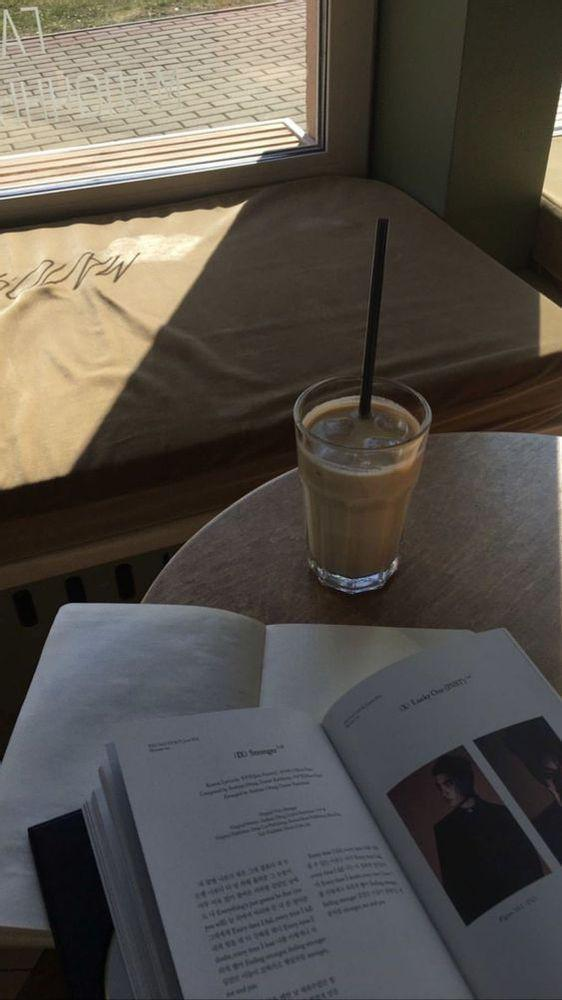glass-normal: (292, 374, 433, 594)
